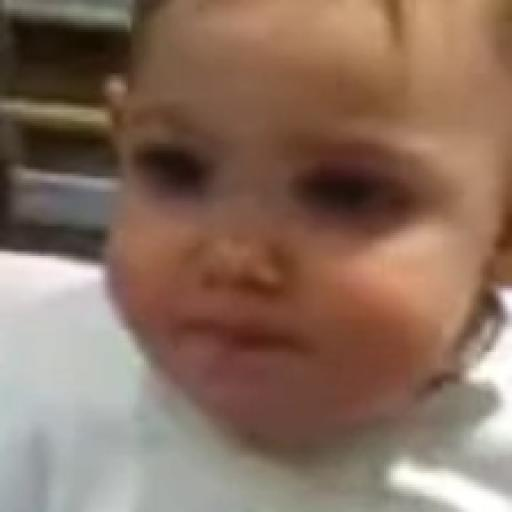Autism: (98, 13, 512, 488)
